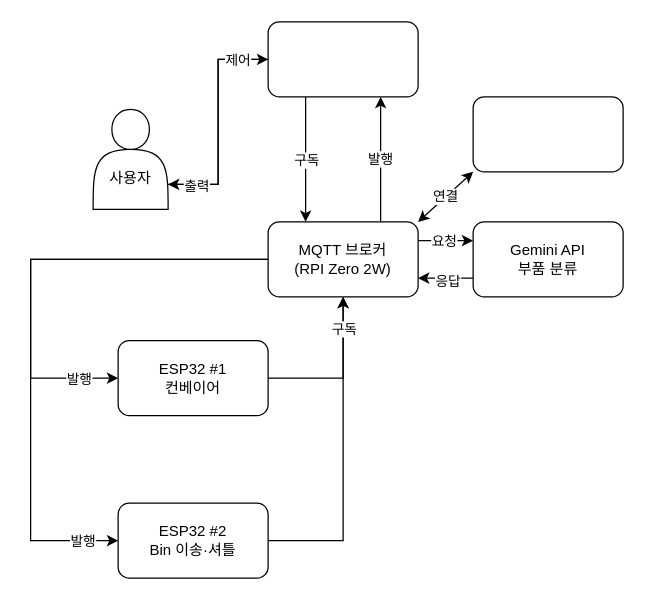
The diagram is 645 pixels wide and 600 high, and some of its shapes have lost their labels. Here are the shapes that lost their labels. From the top down, the centre of each, then its label:
At (342,59): "디지털 트윈 (Unity 3D Scene)".
At (547,134): "Backend 서버 (Supabase)".
